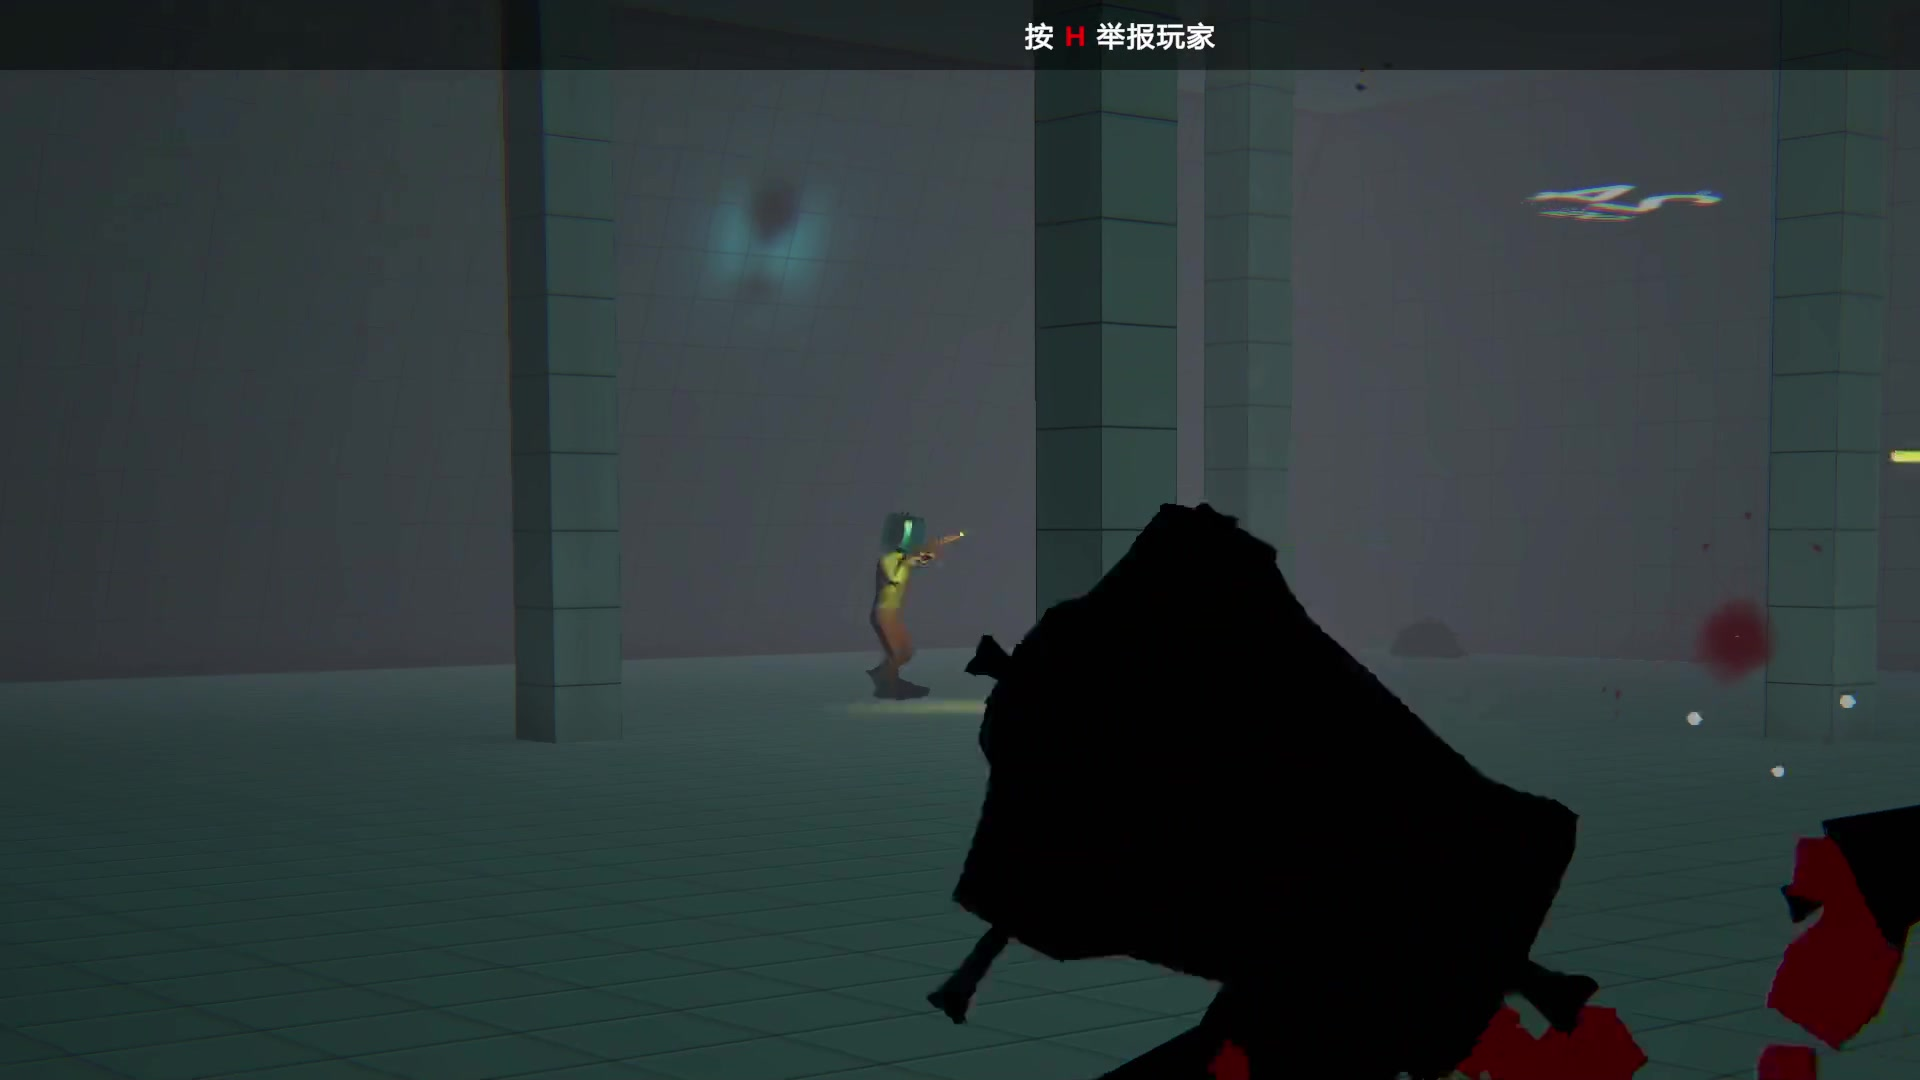human: (871, 486, 928, 694)
